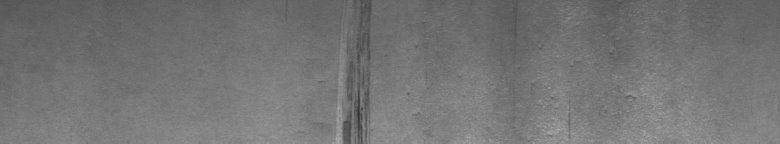hd: (318, 4, 420, 136)
